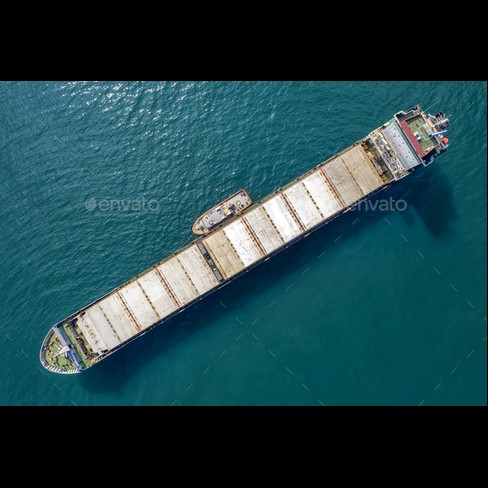boat: (30, 97, 463, 385)
